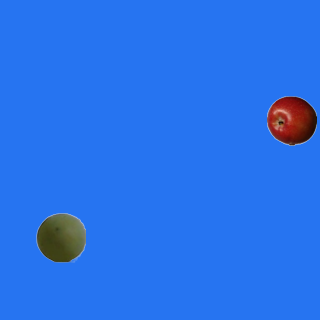Apple Braeburn: (266, 95, 316, 145)
Grape White 4: (35, 212, 85, 262)
